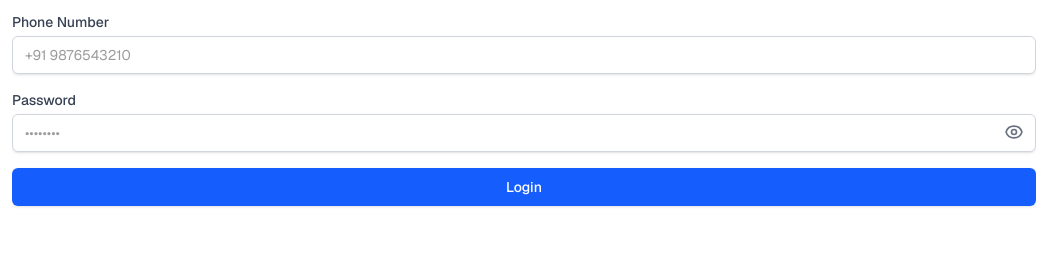
Scenario: LoginForm Component › shows validation errors for empty required fields
This screenshot has width=1048, height=264.
Submit the form without filling any fields
Click the button "Login" at point(524, 187), box [12,168,1036,206]
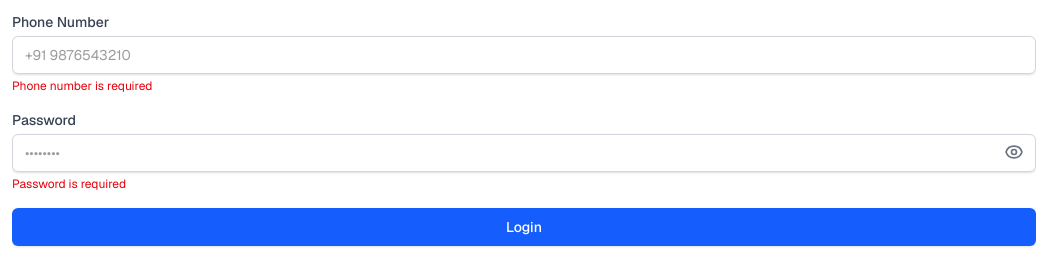
Now the text "Phone number is required" is shown, box [12,78,152,94]
Now the text "Password is required" is shown, box [12,176,126,192]
